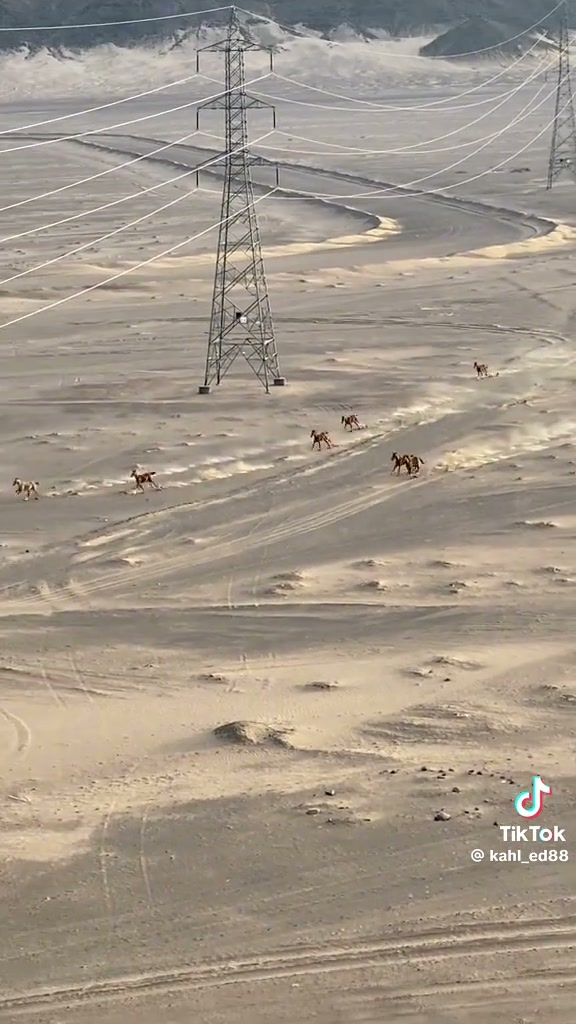animal: (391, 452, 423, 476), (130, 467, 159, 491), (13, 478, 38, 500), (310, 429, 333, 449), (391, 452, 409, 474), (405, 454, 423, 475), (341, 414, 360, 430), (473, 361, 488, 377)
vehicle_track: (0, 918, 575, 1012), (81, 482, 398, 598), (129, 492, 377, 584), (0, 707, 31, 757)
